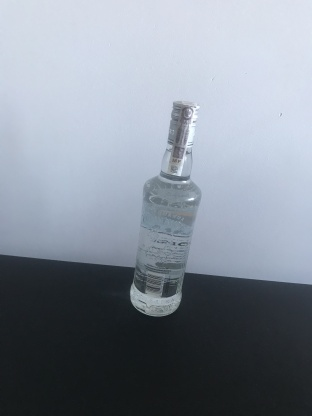nakretka: (165, 97, 202, 150)
